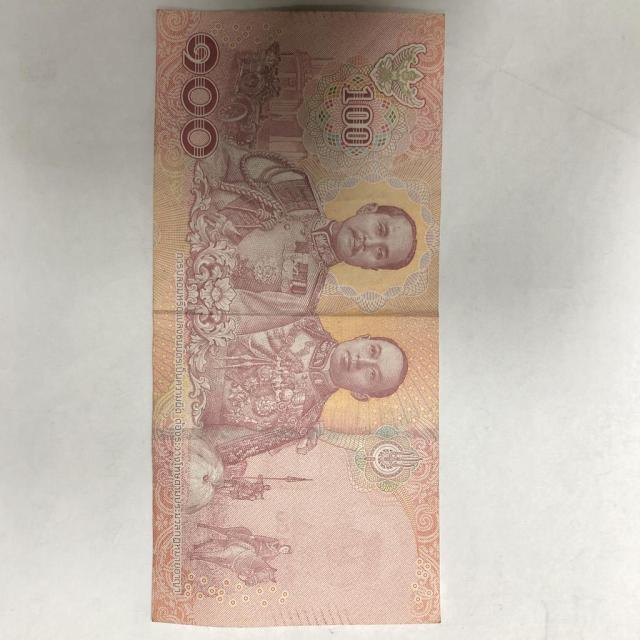THAI100: (152, 7, 444, 626)
